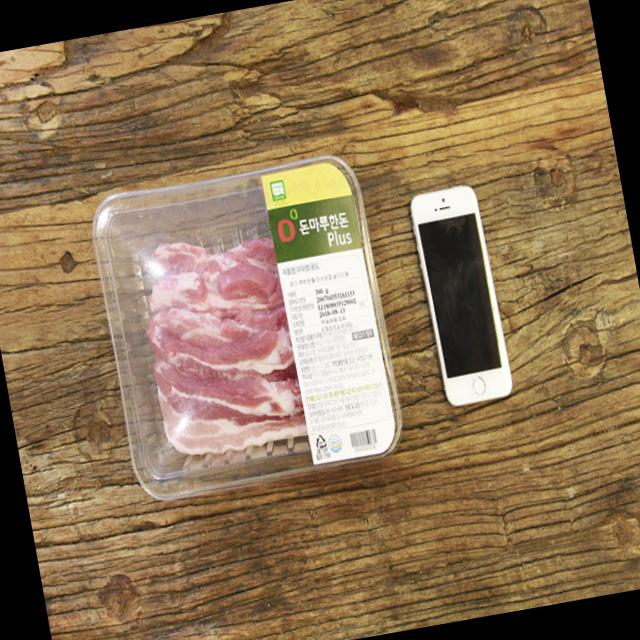pork: (78, 130, 414, 510)
